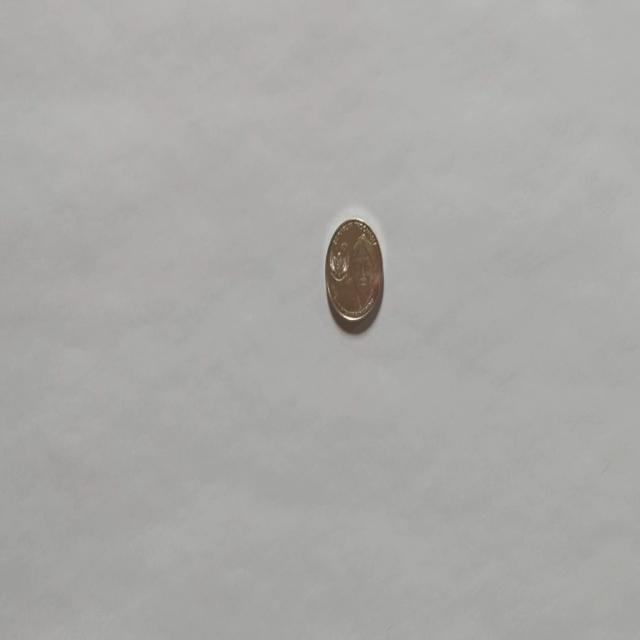dua ratus rupiah: (324, 215, 384, 334)
